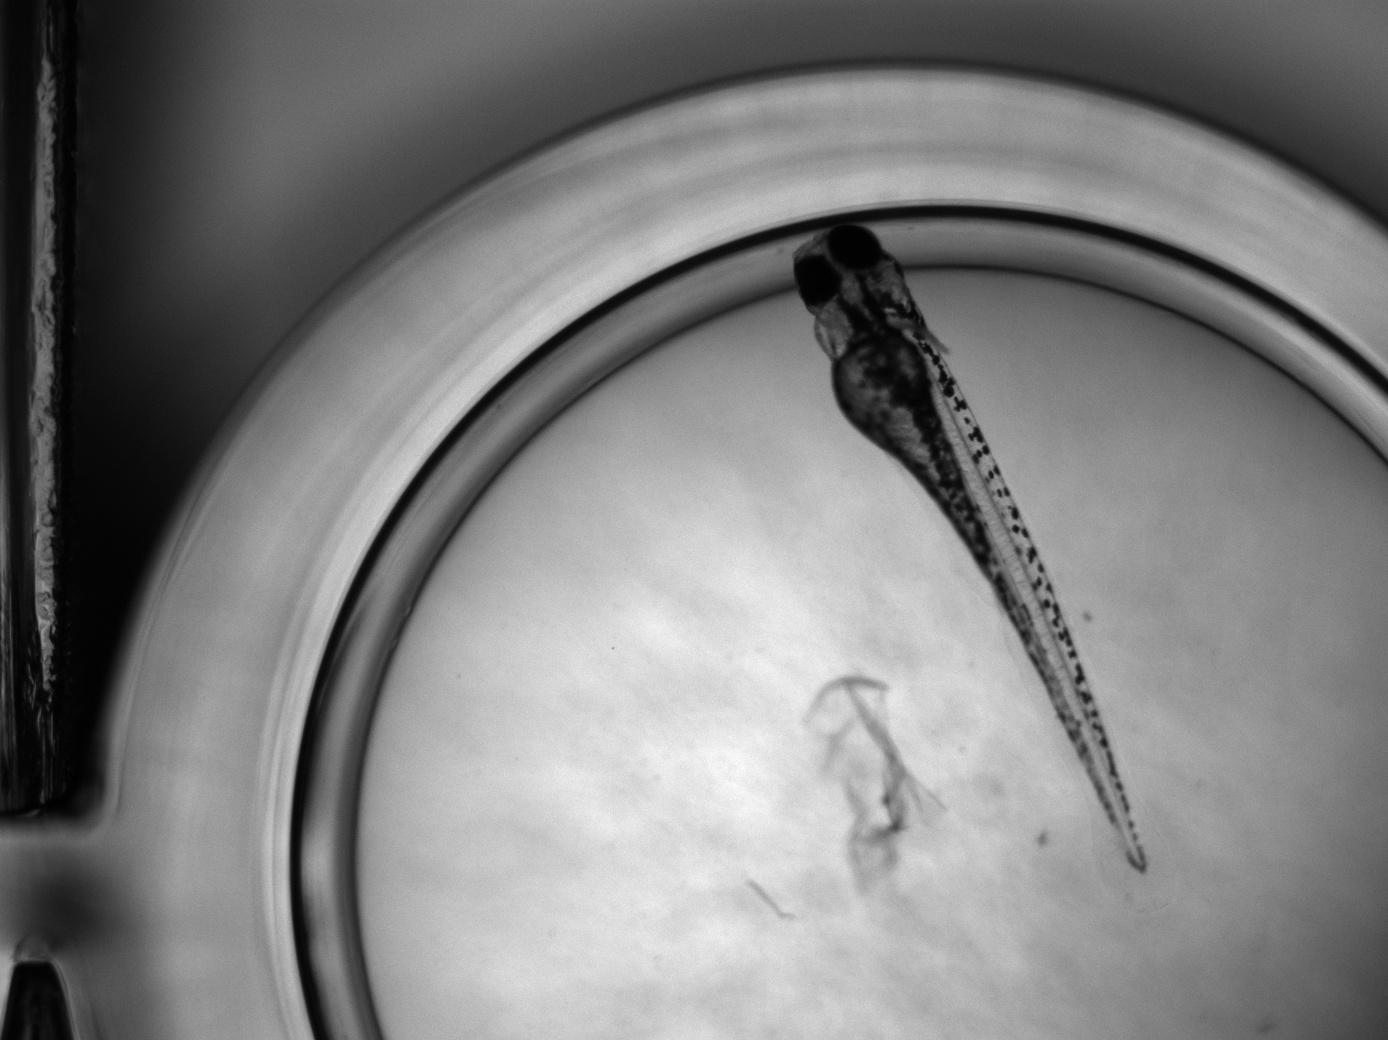debris: (800, 674, 954, 922)
embryo: (793, 225, 1150, 878)
eye: (828, 226, 883, 272), (793, 255, 841, 307)
yolksac: (832, 335, 935, 448)
